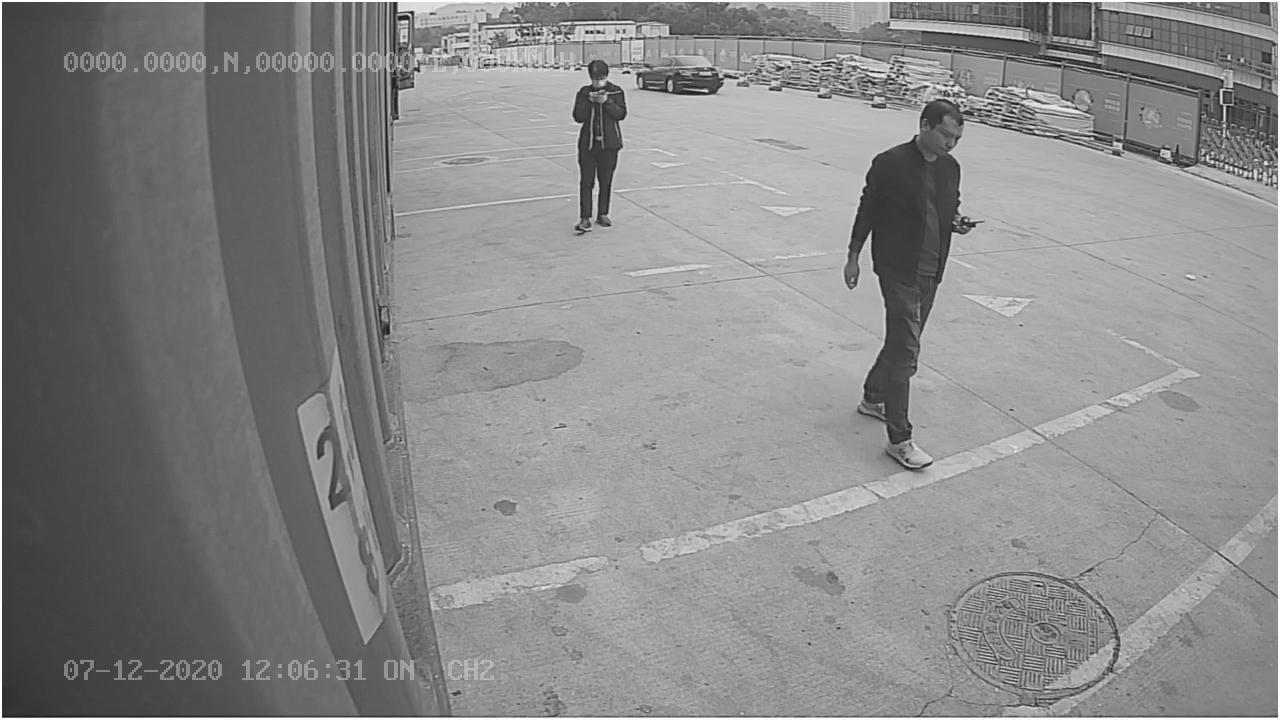person: (838, 85, 975, 474)
